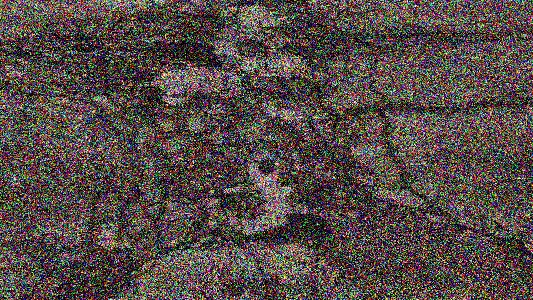pothole: (149, 37, 222, 70), (274, 211, 330, 251)
